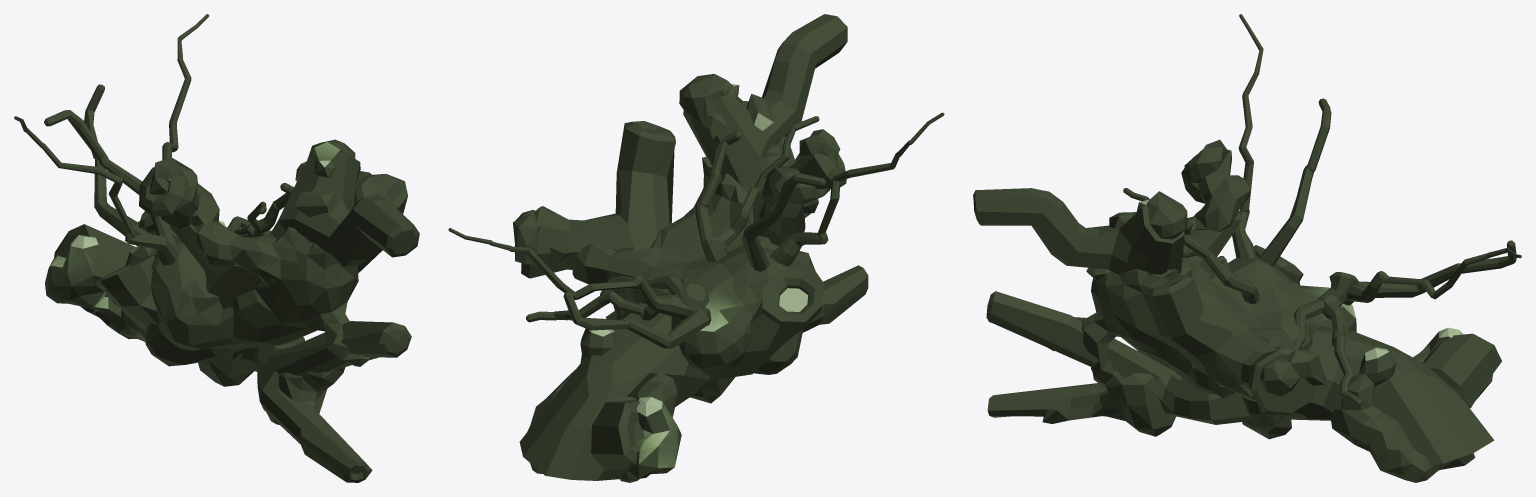
Rendered from EA_Swamp_Root_Mud_01a.glb.
3 views of the same model, side by side, from view 1: azimuth 30°, elevation 25°; view 2: azimuth 150°, elevation 25°; view 3: azimuth 270°, elevation 25° (orthographic). The views are drawn at different scales.
Visible parts, largest first — view 1: EA_Swamp_Root_Mud_01a; view 2: EA_Swamp_Root_Mud_01a; view 3: EA_Swamp_Root_Mud_01a.
Boxes of the visible parts, x1,y1,x2,y2 form: EA_Swamp_Root_Mud_01a: (14, 14, 419, 482); EA_Swamp_Root_Mud_01a: (448, 14, 944, 482); EA_Swamp_Root_Mud_01a: (973, 14, 1521, 482).
Bounding box in the file's own units: 4.78 × 4.02 × 5.95.
Materials: 1 (1 with a texture image).
